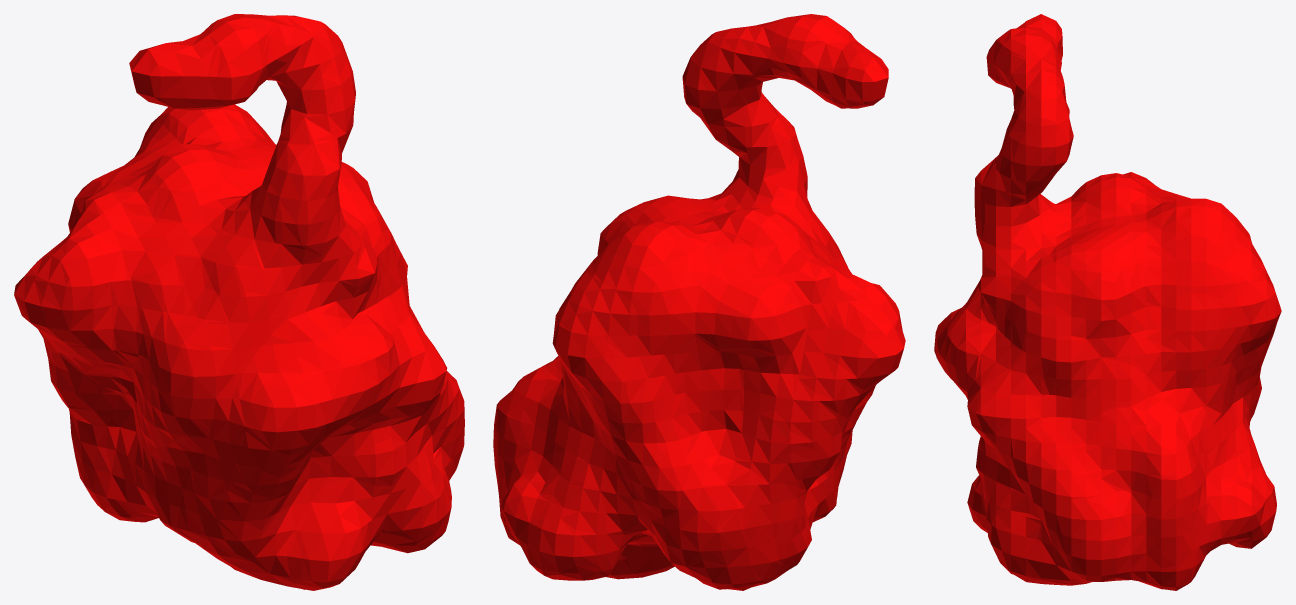
File: cycA_coarse.dae
The picture shows the model from 3 angles, left to right: view 1: azimuth 30°, elevation 25°; view 2: azimuth 150°, elevation 25°; view 3: azimuth 270°, elevation 25°; orthographic projection. The views are drawn at different scales.
Parts seen in each view (by area): view 1: cycA; view 2: cycA; view 3: cycA.
Boxes of the visible parts, x1,y1,x2,y2 form: cycA: [14, 14, 464, 590]; cycA: [493, 14, 905, 590]; cycA: [934, 14, 1281, 590].
Bounding box in the file's own units: 63.53 × 84.6 × 54.52.
